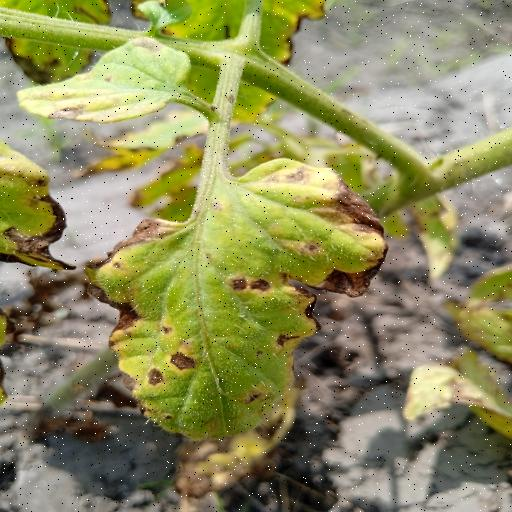Tomato_Brown_Spots: (75, 152, 396, 496)
